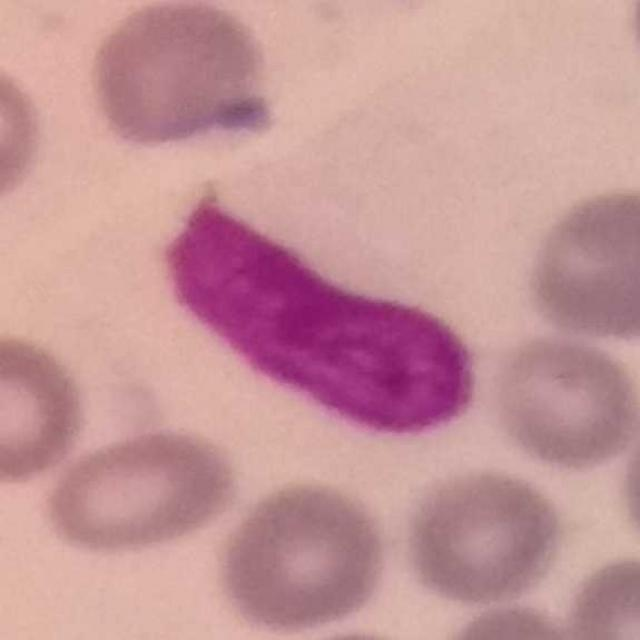Monocyte: (147, 160, 499, 451)
RBC: (84, 0, 282, 156), (212, 475, 393, 638), (37, 422, 245, 560), (396, 462, 572, 609), (481, 328, 640, 476), (520, 182, 640, 346), (0, 327, 93, 488), (0, 50, 49, 218), (558, 551, 640, 640), (432, 599, 590, 640), (614, 397, 640, 570), (255, 623, 445, 640)
